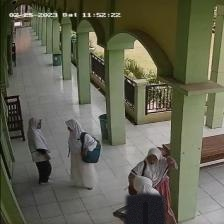Cadar_Niqab: (124, 175, 165, 224)
